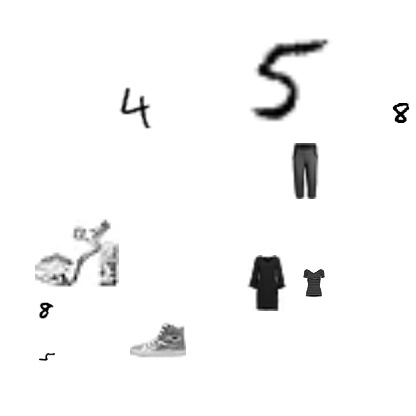4: (106, 80, 162, 136)
5: (227, 20, 339, 132), (36, 345, 58, 367)
8: (386, 98, 414, 126), (34, 298, 56, 320)
Dress: (238, 255, 294, 311)
Sandal: (35, 211, 119, 295)
Sneaker: (130, 311, 186, 367)
T-shirt/top: (300, 269, 328, 297)
Trouser: (276, 143, 332, 199)
